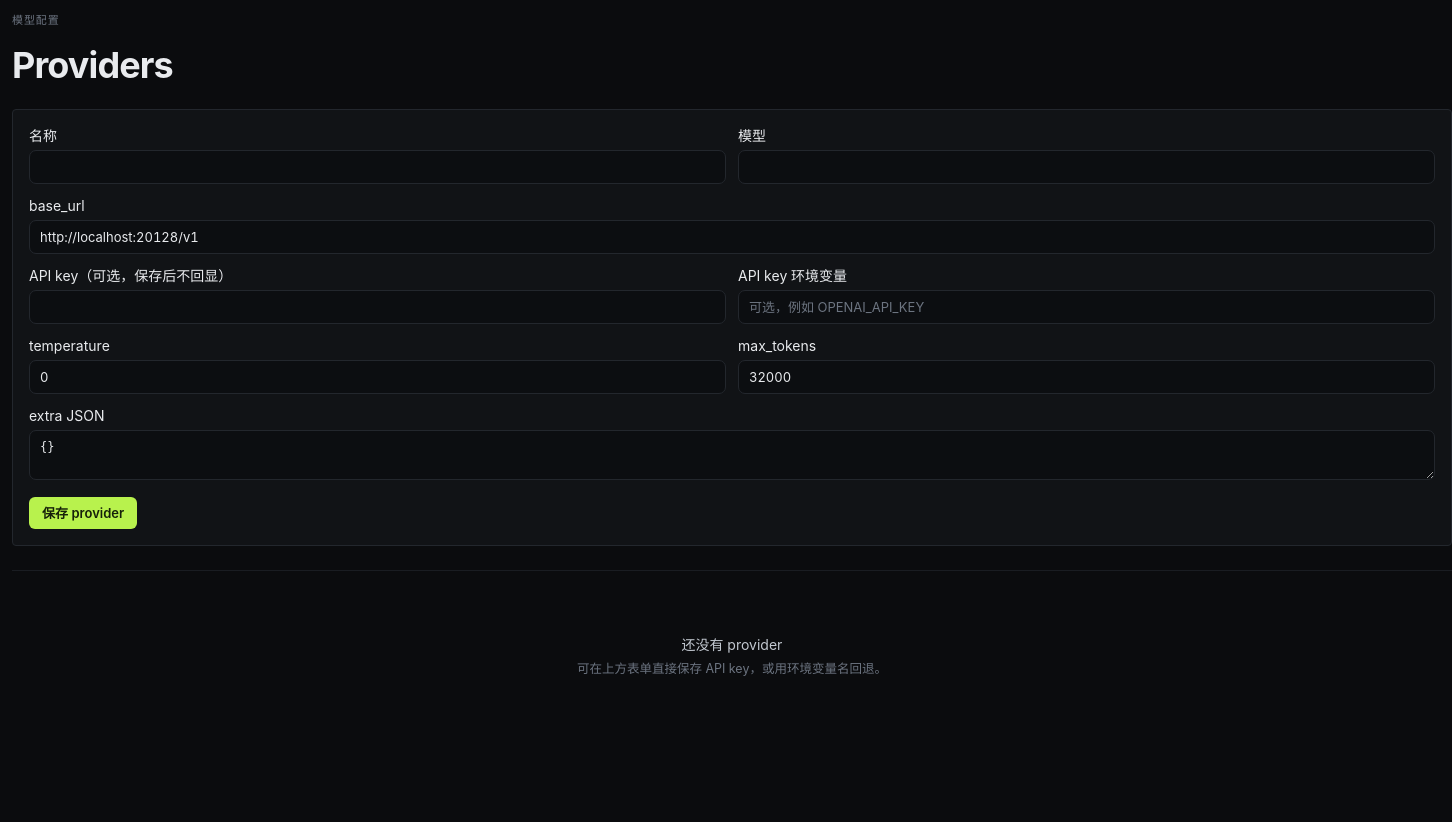
Test case: ProvidersView field errors › 输入即清：修正字段后该字段错误消失，其余保留
In the field labelled "名称": (378, 167) x1=29 y1=150 x2=726 y2=184, type "local"
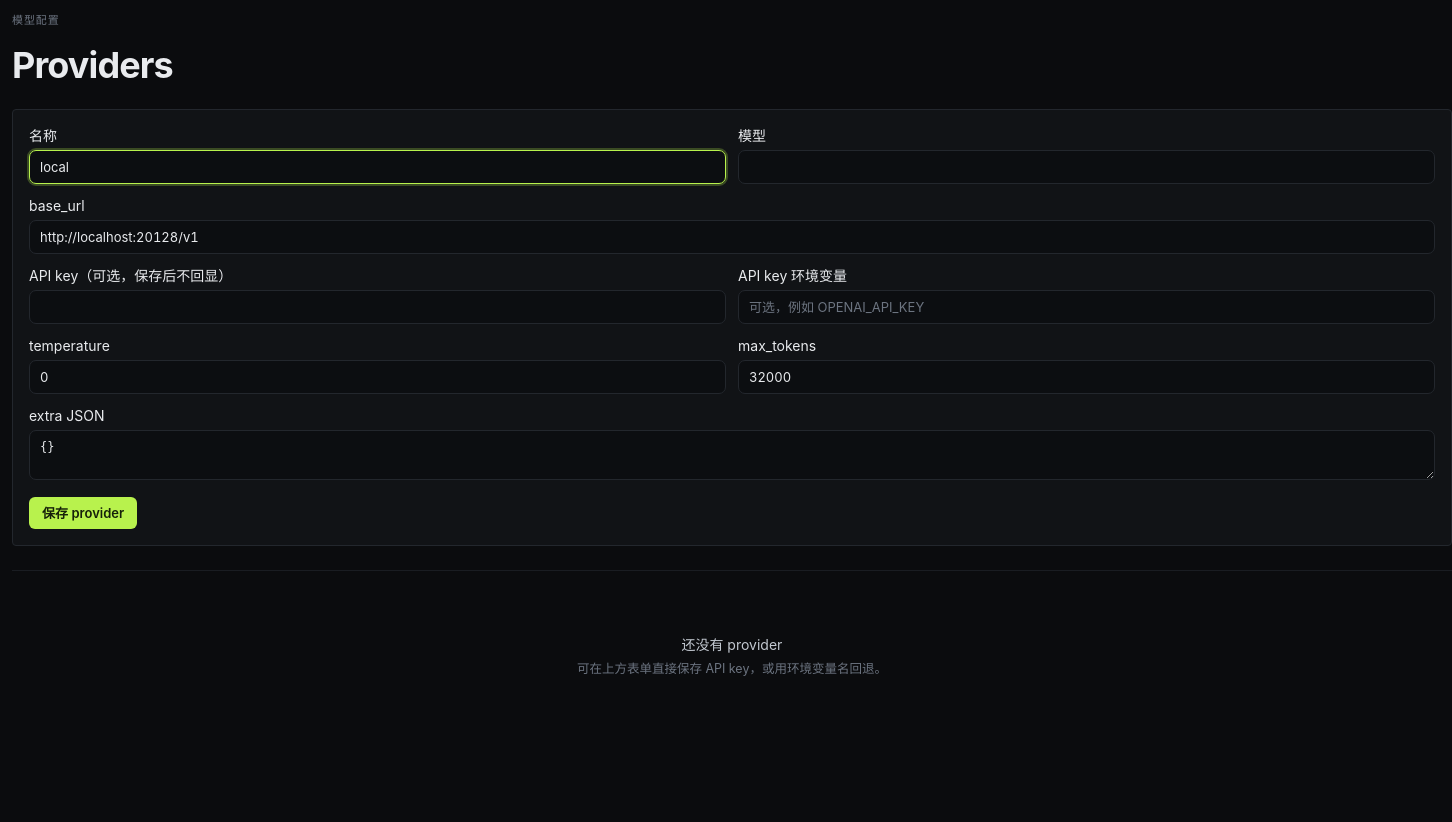
In the field labelled "模型": (1086, 167) x1=738 y1=150 x2=1435 y2=184, type "m"
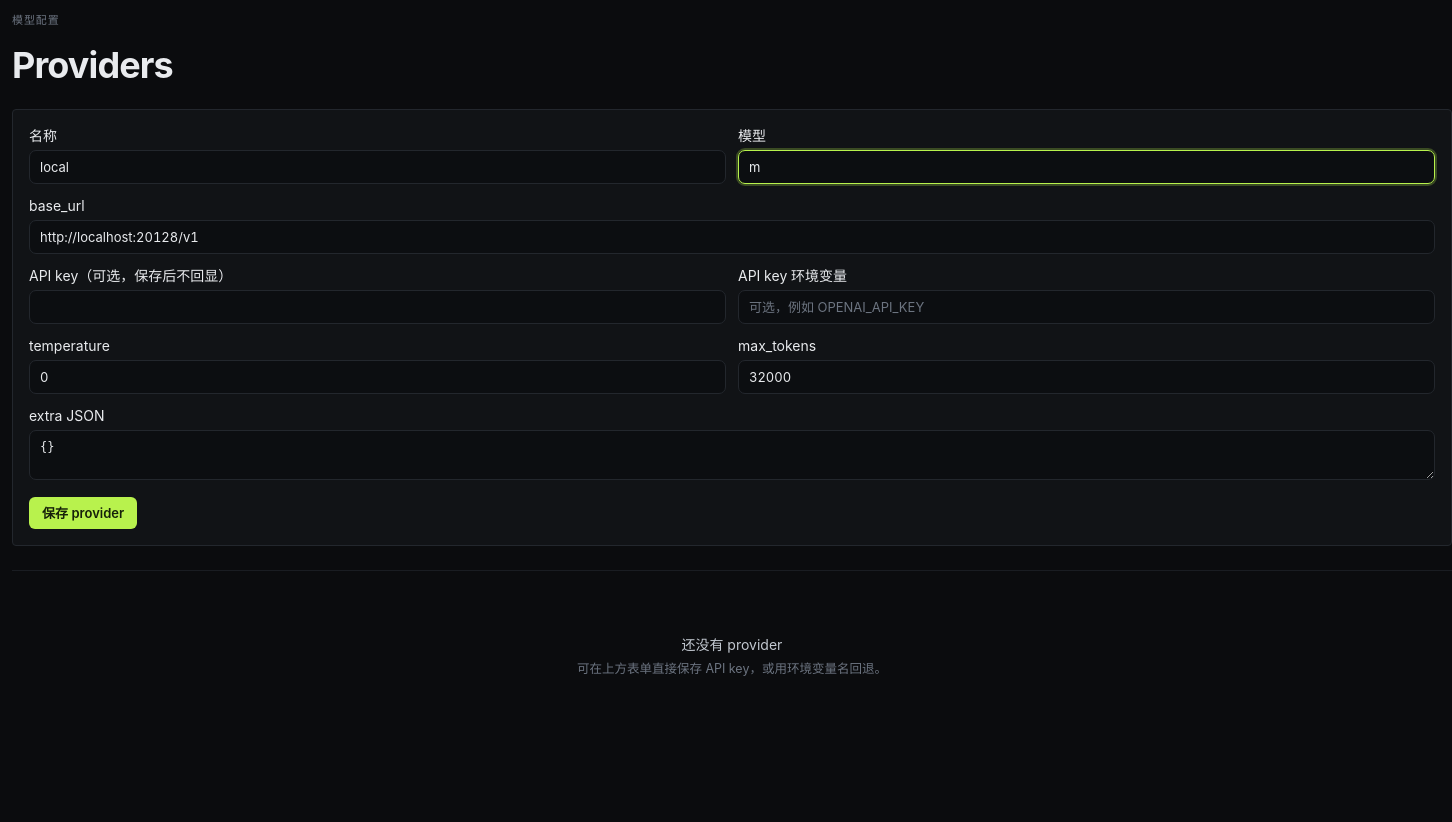
Clear the field labelled "base_url": (732, 237) x1=29 y1=220 x2=1435 y2=254
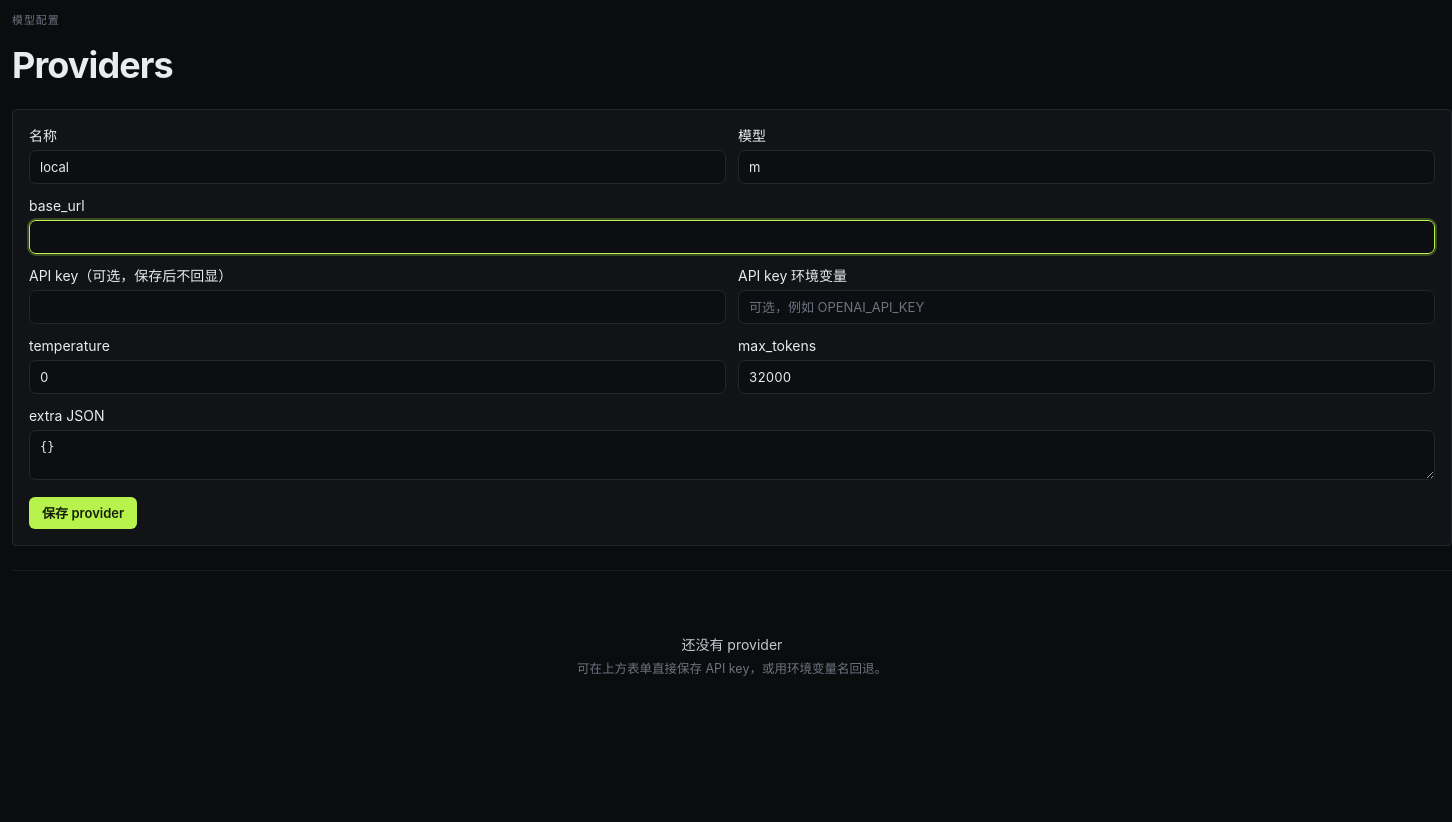
Click the button "保存 provider": (83, 513) x1=29 y1=497 x2=137 y2=529
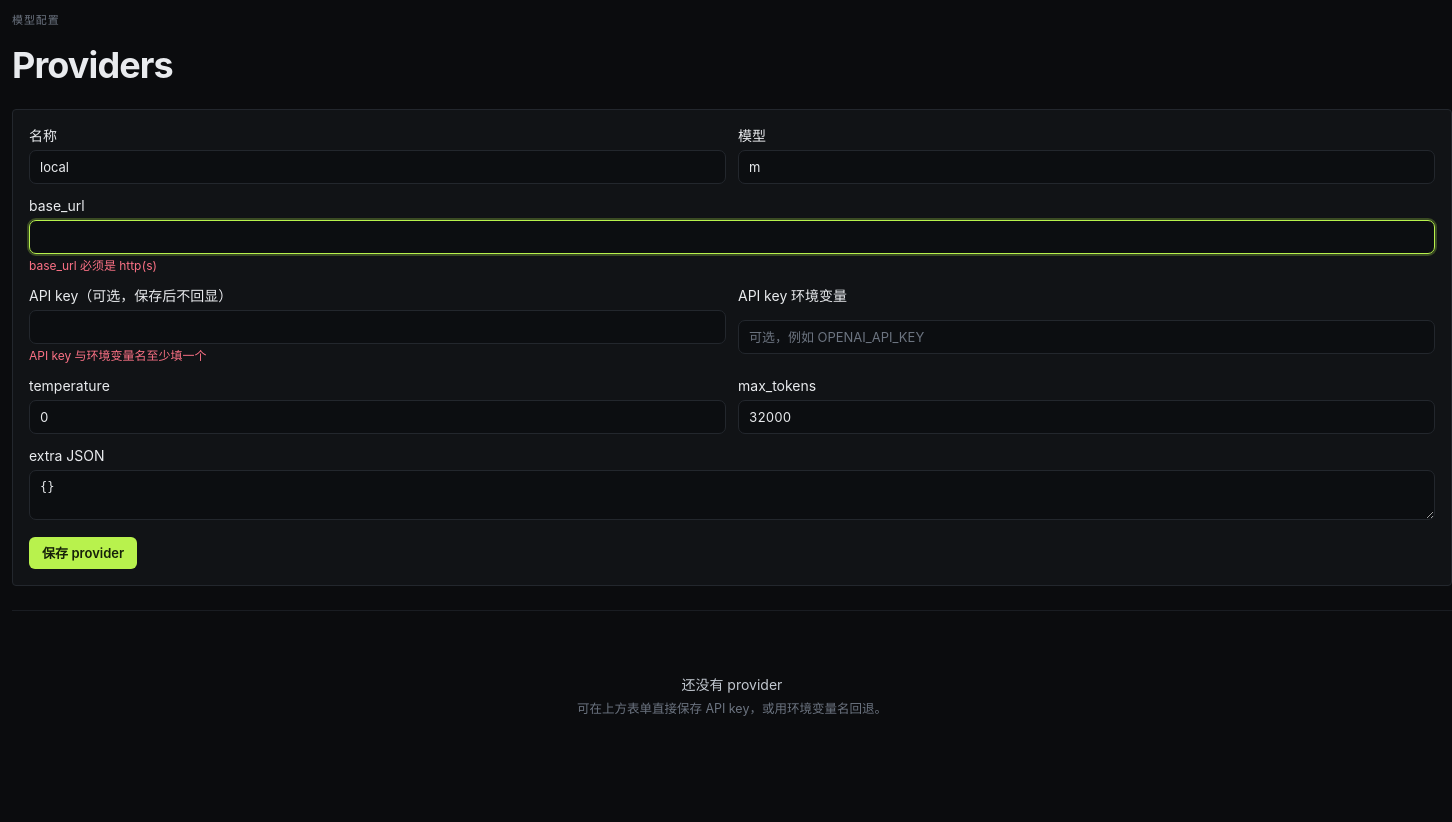
Result: the text "base_url 必须是 http(s)" is shown at x1=29 y1=258 x2=157 y2=273
In the field labelled "base_url": (732, 237) x1=29 y1=220 x2=1435 y2=254, type "http://localhost/v1"
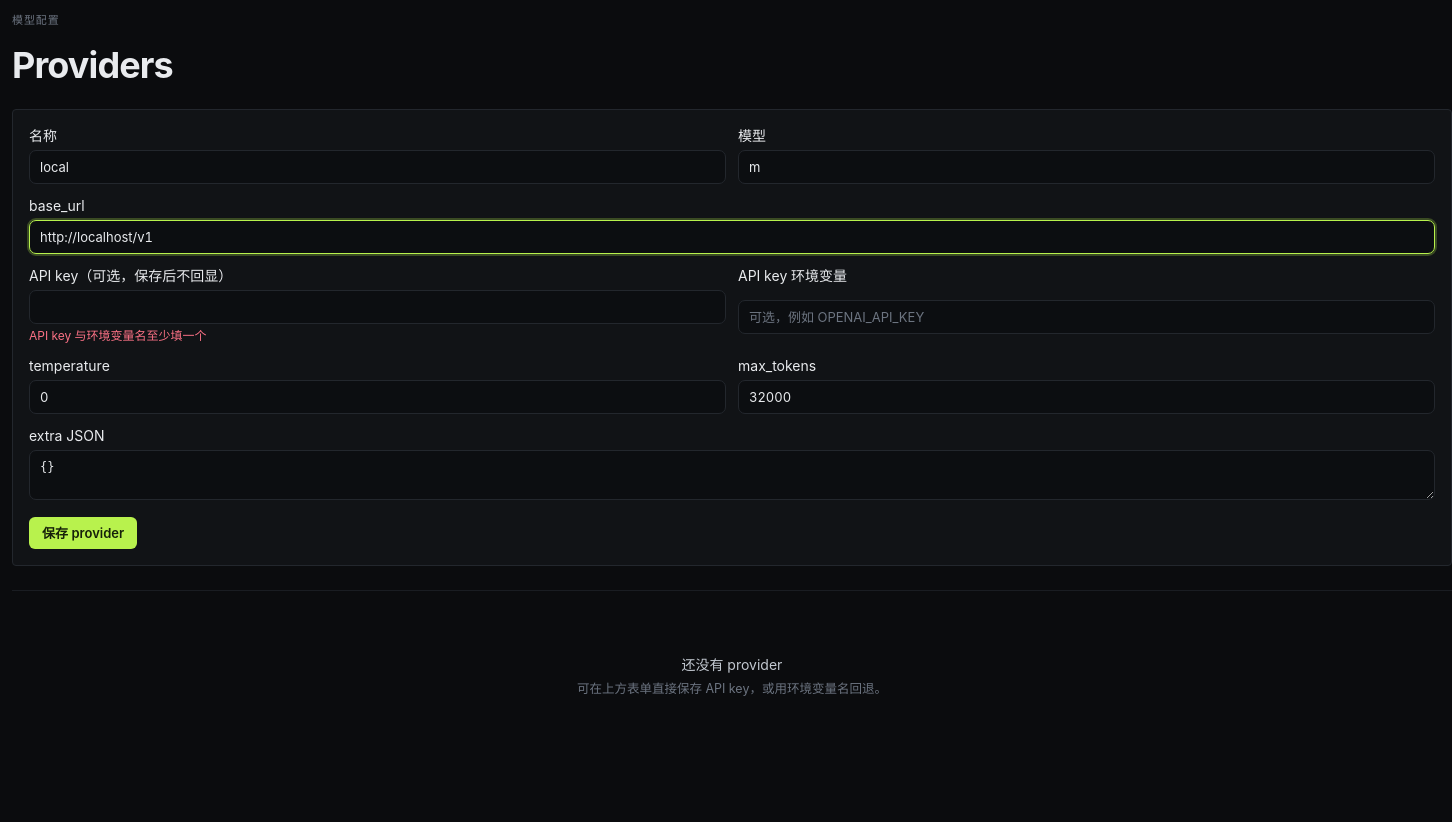
Result: the text "API key 与环境变量名至少填一个" is shown at x1=29 y1=328 x2=206 y2=343
Result: the text "base_url 必须是 http(s)" is gone
